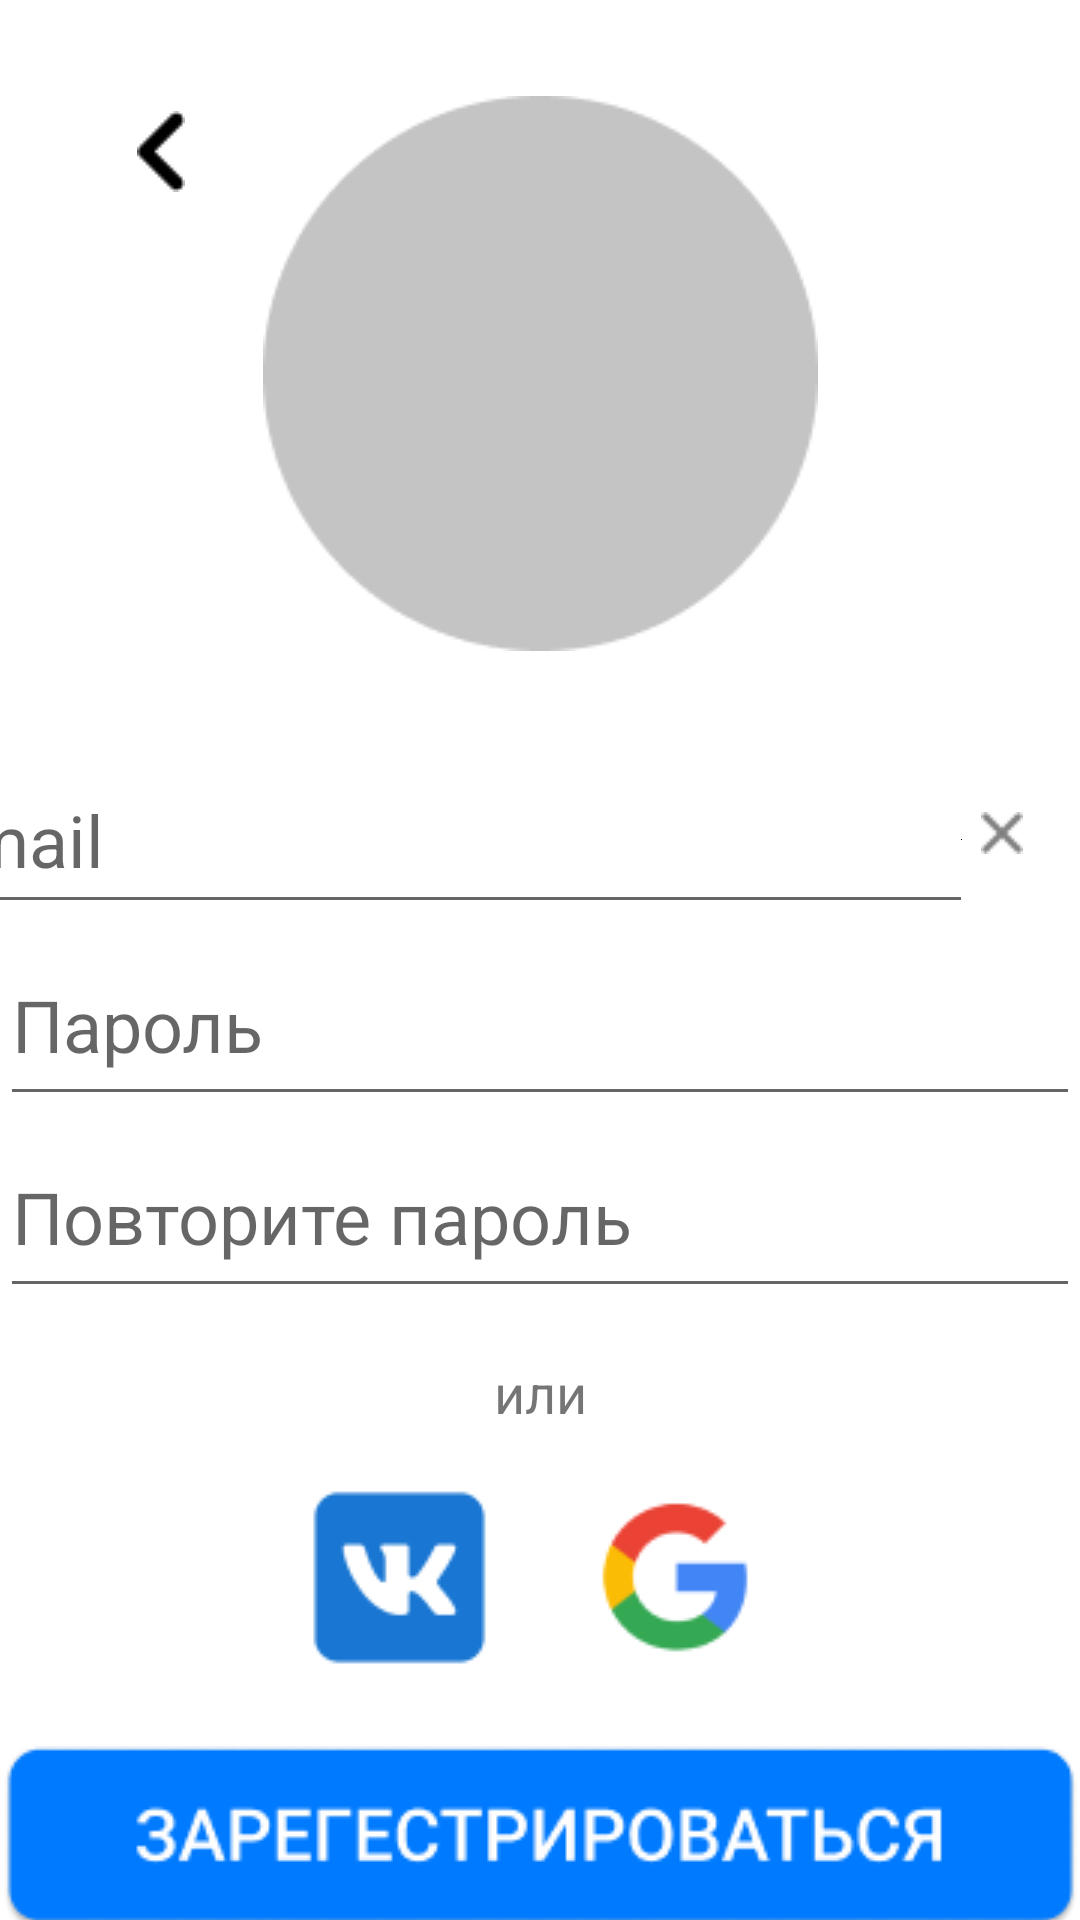

Icons on this 1080 x 1920 Android screen, each with its box as (x1, y1, x2, y2):
back: (137, 111, 185, 192)
delete text: (981, 812, 1023, 854)
